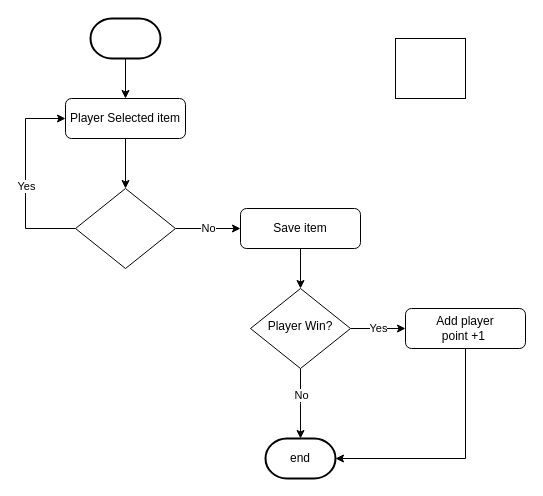
This 543x496 diagram has some shape labels left out. Each missing label, with the centre of its shape:
"Apakah item sama?" belongs at pixel 125 228.
"Entity item: -Batu -Gunting -Kertas" belongs at pixel 430 68.
"start" belongs at pixel 125 38.
